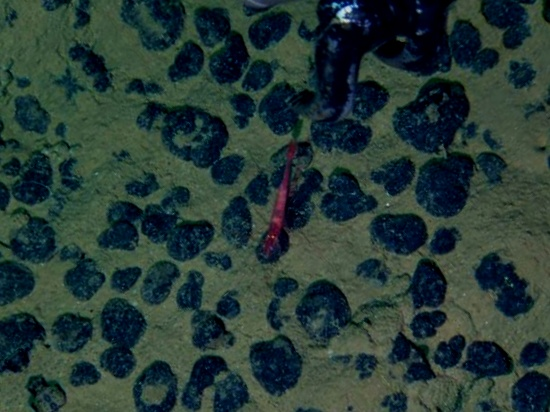halobolite: (396, 75, 471, 149), (474, 250, 547, 315), (394, 256, 464, 318), (179, 353, 242, 412), (249, 335, 308, 398), (414, 149, 473, 210), (168, 109, 231, 163), (1, 306, 47, 376), (297, 271, 349, 332), (317, 227, 368, 279), (189, 306, 240, 357), (264, 79, 302, 146), (388, 332, 439, 380), (376, 199, 425, 248), (61, 256, 108, 307), (17, 369, 72, 412), (97, 281, 159, 319), (128, 363, 175, 411), (321, 169, 371, 214), (467, 331, 510, 383), (243, 10, 298, 50), (78, 185, 121, 236), (188, 1, 237, 45), (1, 135, 40, 190), (47, 316, 94, 361), (288, 210, 343, 247), (18, 87, 63, 132), (211, 31, 249, 83), (1, 257, 41, 305), (165, 40, 207, 83), (222, 198, 259, 245), (132, 184, 178, 218), (146, 249, 181, 293), (370, 373, 410, 411), (117, 312, 163, 345), (209, 284, 249, 320), (219, 96, 264, 128), (156, 212, 193, 249), (334, 118, 378, 147), (123, 171, 167, 199), (252, 146, 295, 174), (23, 208, 59, 241), (61, 220, 93, 255), (72, 357, 104, 391), (306, 105, 335, 142), (129, 98, 166, 127), (208, 154, 242, 185), (243, 59, 276, 90), (270, 176, 300, 208), (1, 196, 19, 244), (207, 238, 233, 271)
